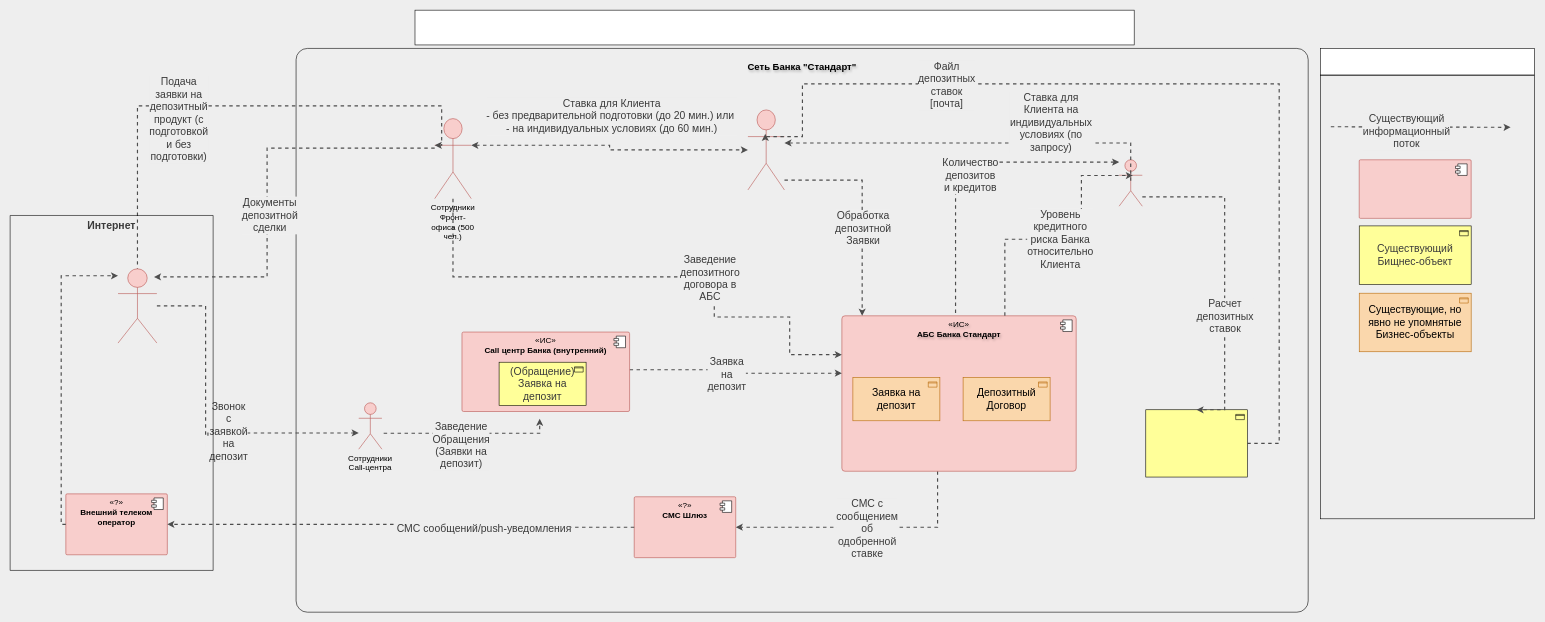
Image size: 1545x622. Some labels were removed from this diagram. Here are the shapes that lost their labels. From the top down, the centre of each, then its label:
At (x=774, y=27): "Схема потоков данных и интеграций Информационных систем Банка Стандарт".
At (x=1427, y=61): "Легенда".
At (x=765, y=149): "Сотрудник Бэк-офиса Депозитного управления (50чел.)".
At (x=1130, y=182): "Сотрудник Бэк-офиса Кредитного управления (50чел.)".
At (x=1415, y=188): "Информационная система".
At (x=137, y=305): "Клиенты Банка".
At (x=1196, y=443): "<<Excel>> Депозитные ставки".
